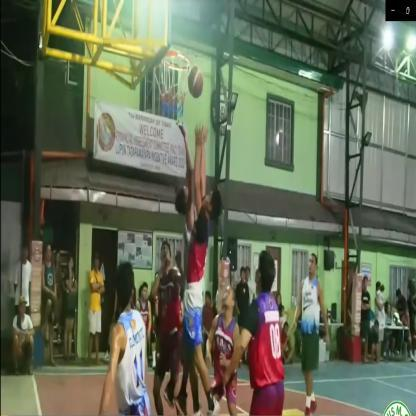basketball: (186, 61, 205, 104)
rim: (152, 40, 193, 126)
